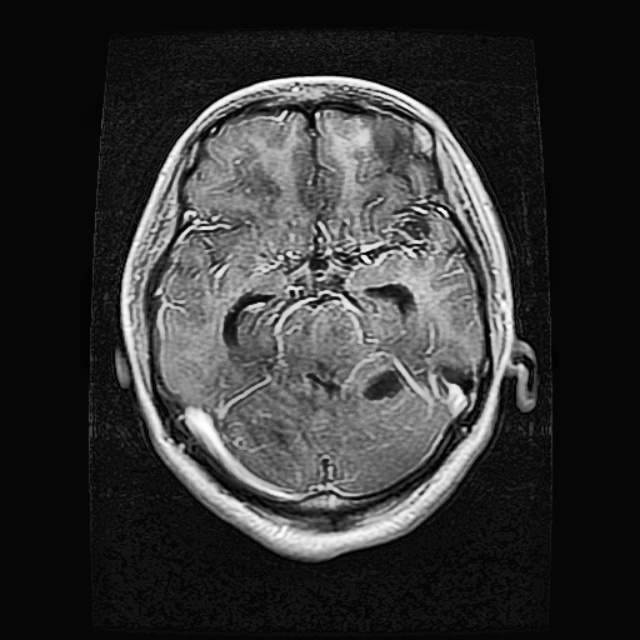Glioma: (364, 364, 404, 403)
